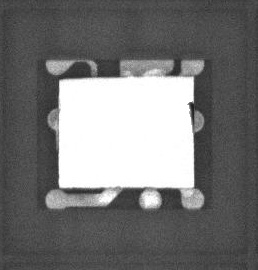DIE_BROKEN: (186, 99, 196, 131)
